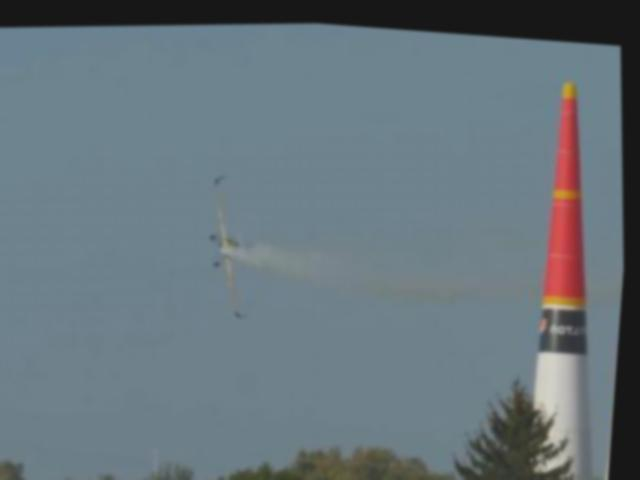uav: (197, 164, 263, 322)
